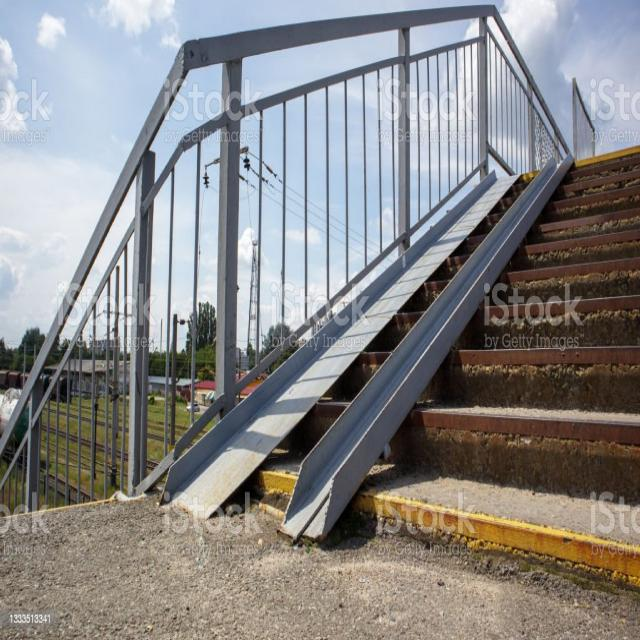AVOID: (359, 148, 640, 583)
CLIMB: (162, 160, 574, 541)
